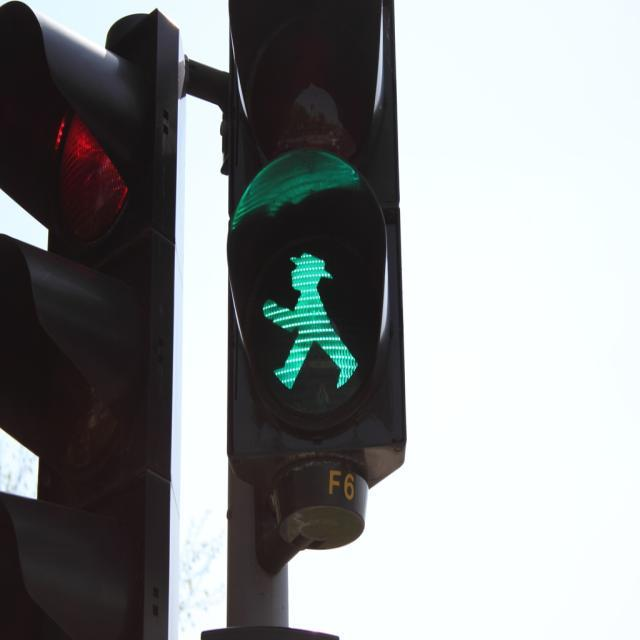traffic light: (0, 10, 184, 640), (214, 0, 411, 463)
